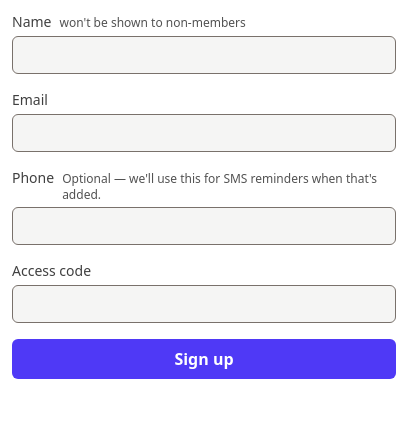
SignupForm › when signup code is required › shows an error message when the API returns an error
Type "X" into the field labelled "Name won't be shown to non-members".
click(204, 55); type("X")  # box [12,36,396,74]
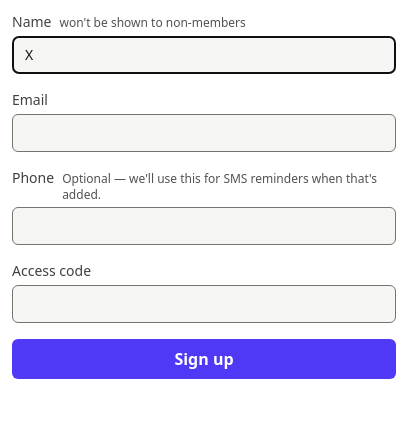
Type "x@example.com" into the field labelled "Email".
click(204, 133); type("x@example.com")  # box [12,114,396,152]
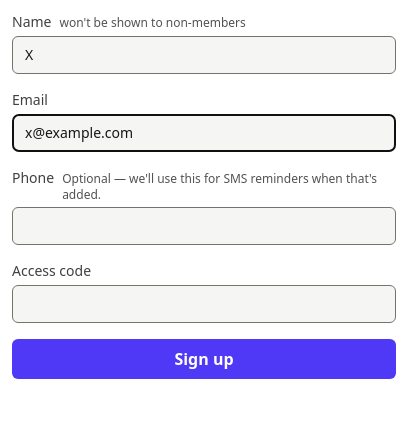
Type "wrong" into the field labelled "Access code".
click(204, 304); type("wrong")  # box [12,285,396,323]
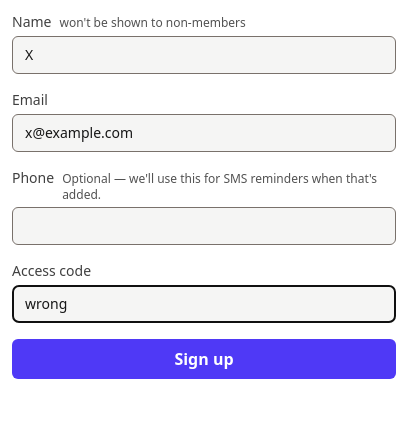
Click the button "Sign up".
click(204, 359)  # box [12,339,396,379]
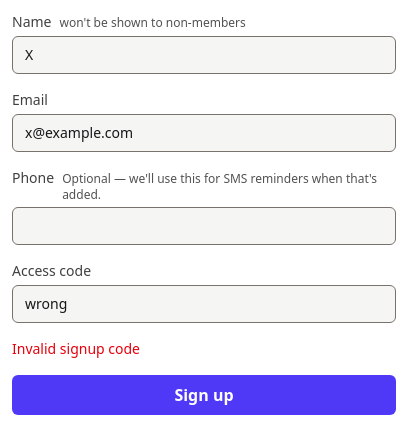
Expected: the text "Invalid signup code" is shown, [12,339,140,358]
